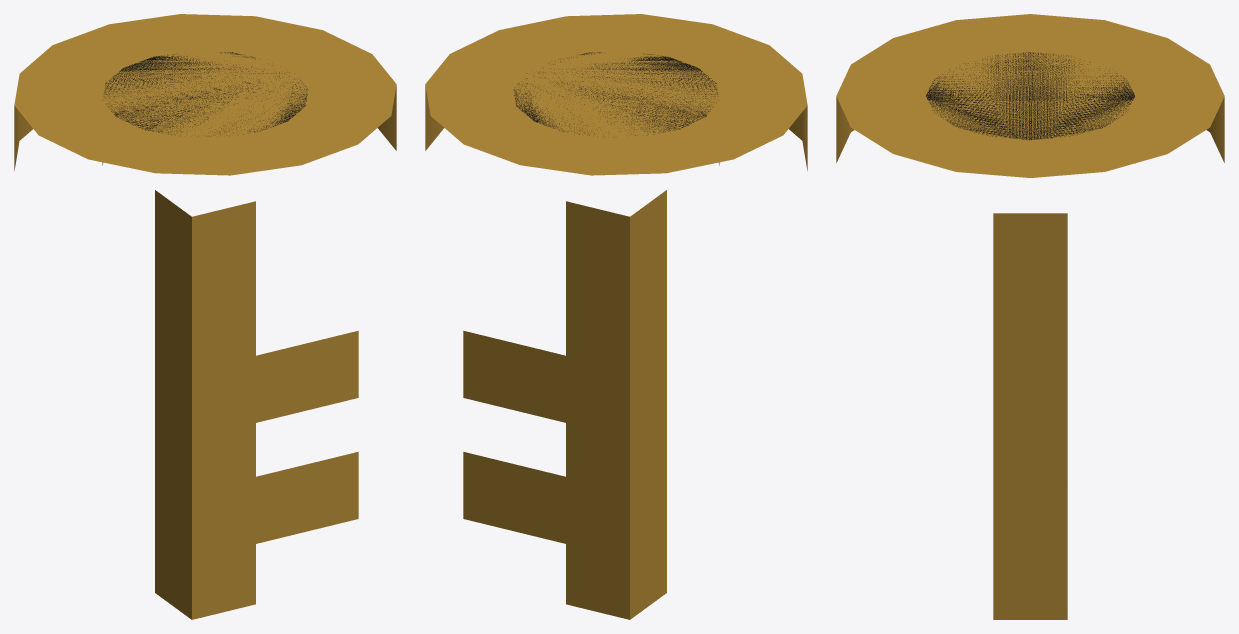
File: model.key.glb
3 renders of one model, left to right at view 1: azimuth 30°, elevation 25°; view 2: azimuth 150°, elevation 25°; view 3: azimuth 270°, elevation 25°, orthographic.
Parts seen in each view (by area): view 1: key; view 2: key; view 3: key.
Part boxes in pixels (x1,y1,x2,y2): key: (14,14,396,619); key: (425,14,807,619); key: (836,14,1224,619).
Bounding box in the file's own units: 0.2598 × 0.375 × 0.2598.
